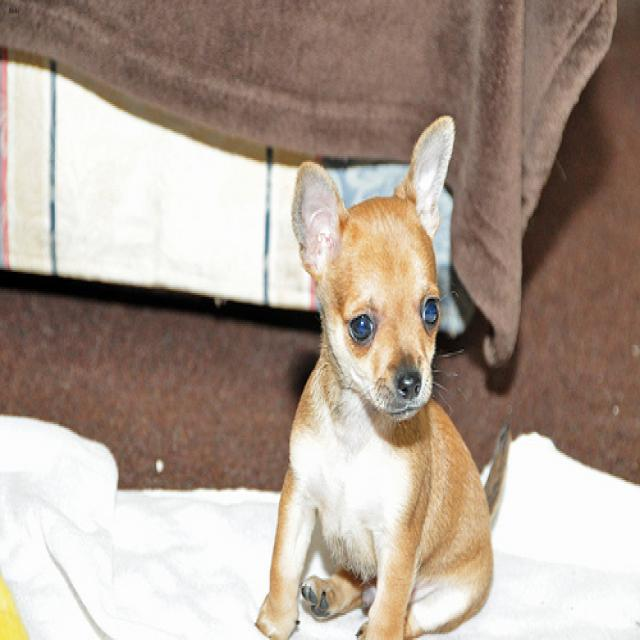dog-chihuahua: (244, 104, 518, 636)
